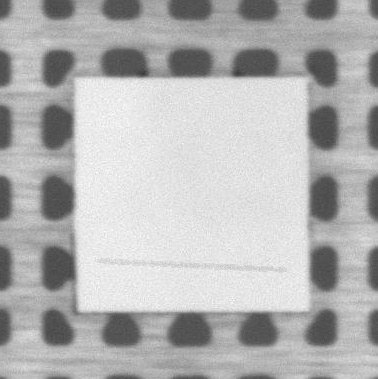DIE_CRACK: (99, 262, 285, 271)
